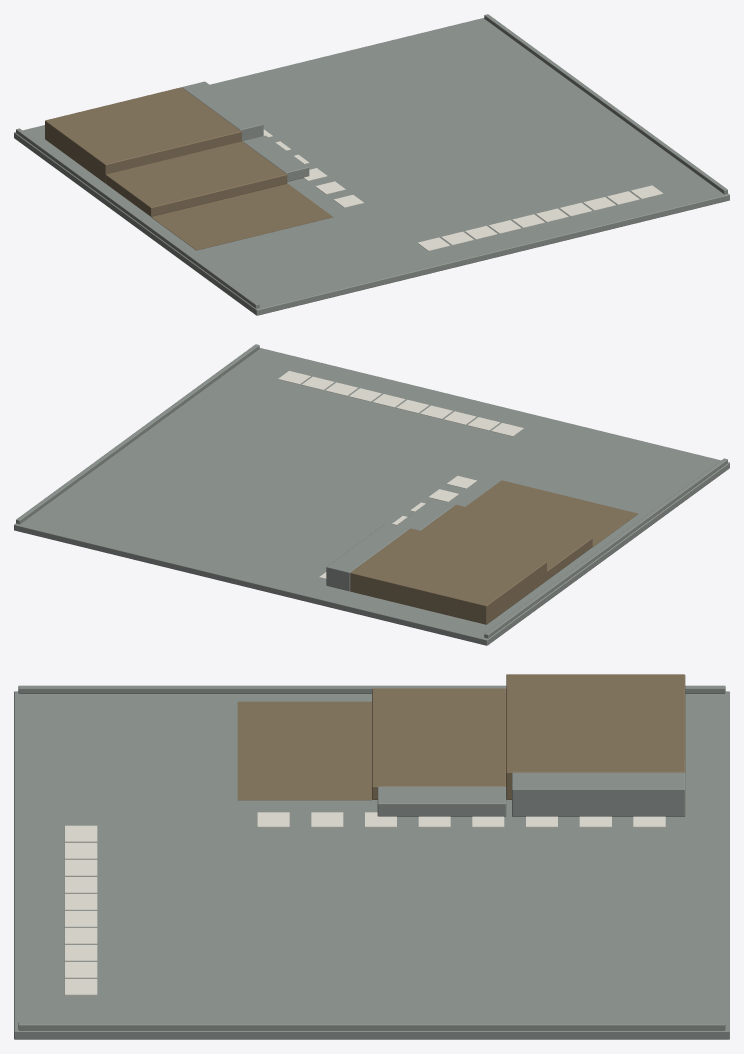
Rendered from tea-garden-and-processing-house-tea-garden-and-process-145d0e10__30796.glb.
3 renders of one model, top to bottom at view 1: azimuth 30°, elevation 25°; view 2: azimuth 150°, elevation 25°; view 3: azimuth 270°, elevation 25°, orthographic. The views are drawn at different scales.
Parts seen in each view (by area): view 1: tea-garden-and-processing-house-tea-terrace-ground; view 2: tea-garden-and-processing-house-tea-terrace-ground; view 3: tea-garden-and-processing-house-tea-terrace-ground.
Boxes of the visible parts, x1,y1,x2,y2 form: tea-garden-and-processing-house-tea-terrace-ground: (14,14,729,315); tea-garden-and-processing-house-tea-terrace-ground: (14,344,729,645); tea-garden-and-processing-house-tea-terrace-ground: (14,674,729,1039).
Size of the model in its own units: 18 by 0.9207 by 16.
